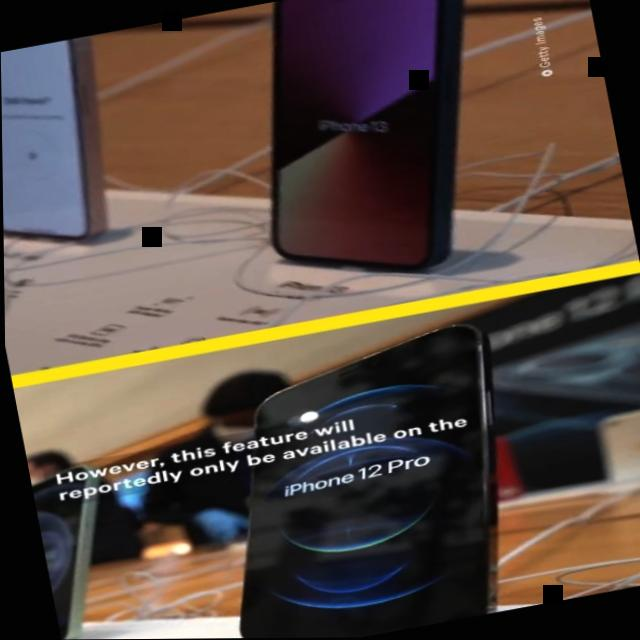Mask: (202, 408, 258, 450), (25, 457, 48, 491)
